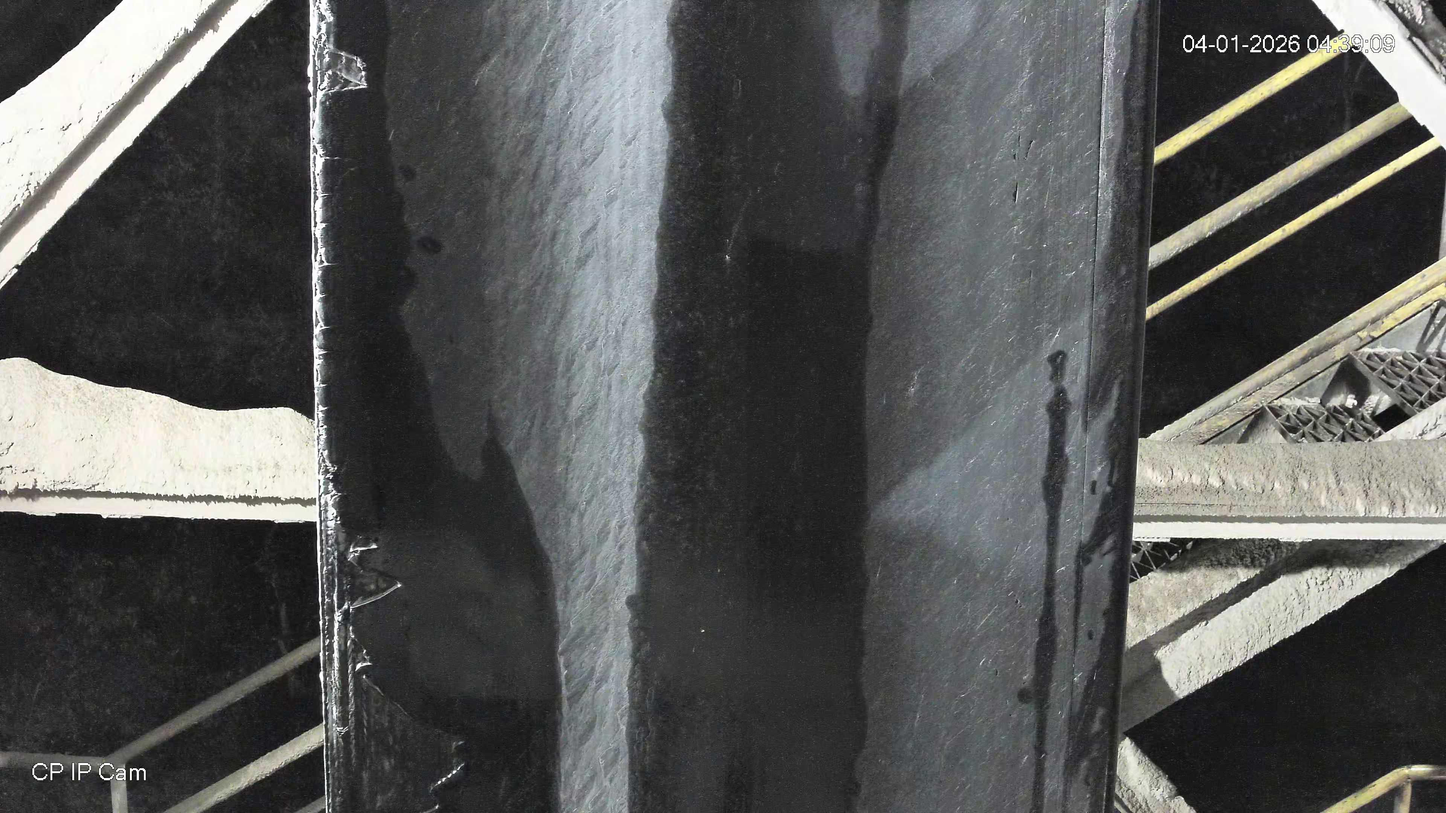belt_roi: (305, 0, 1165, 813)
